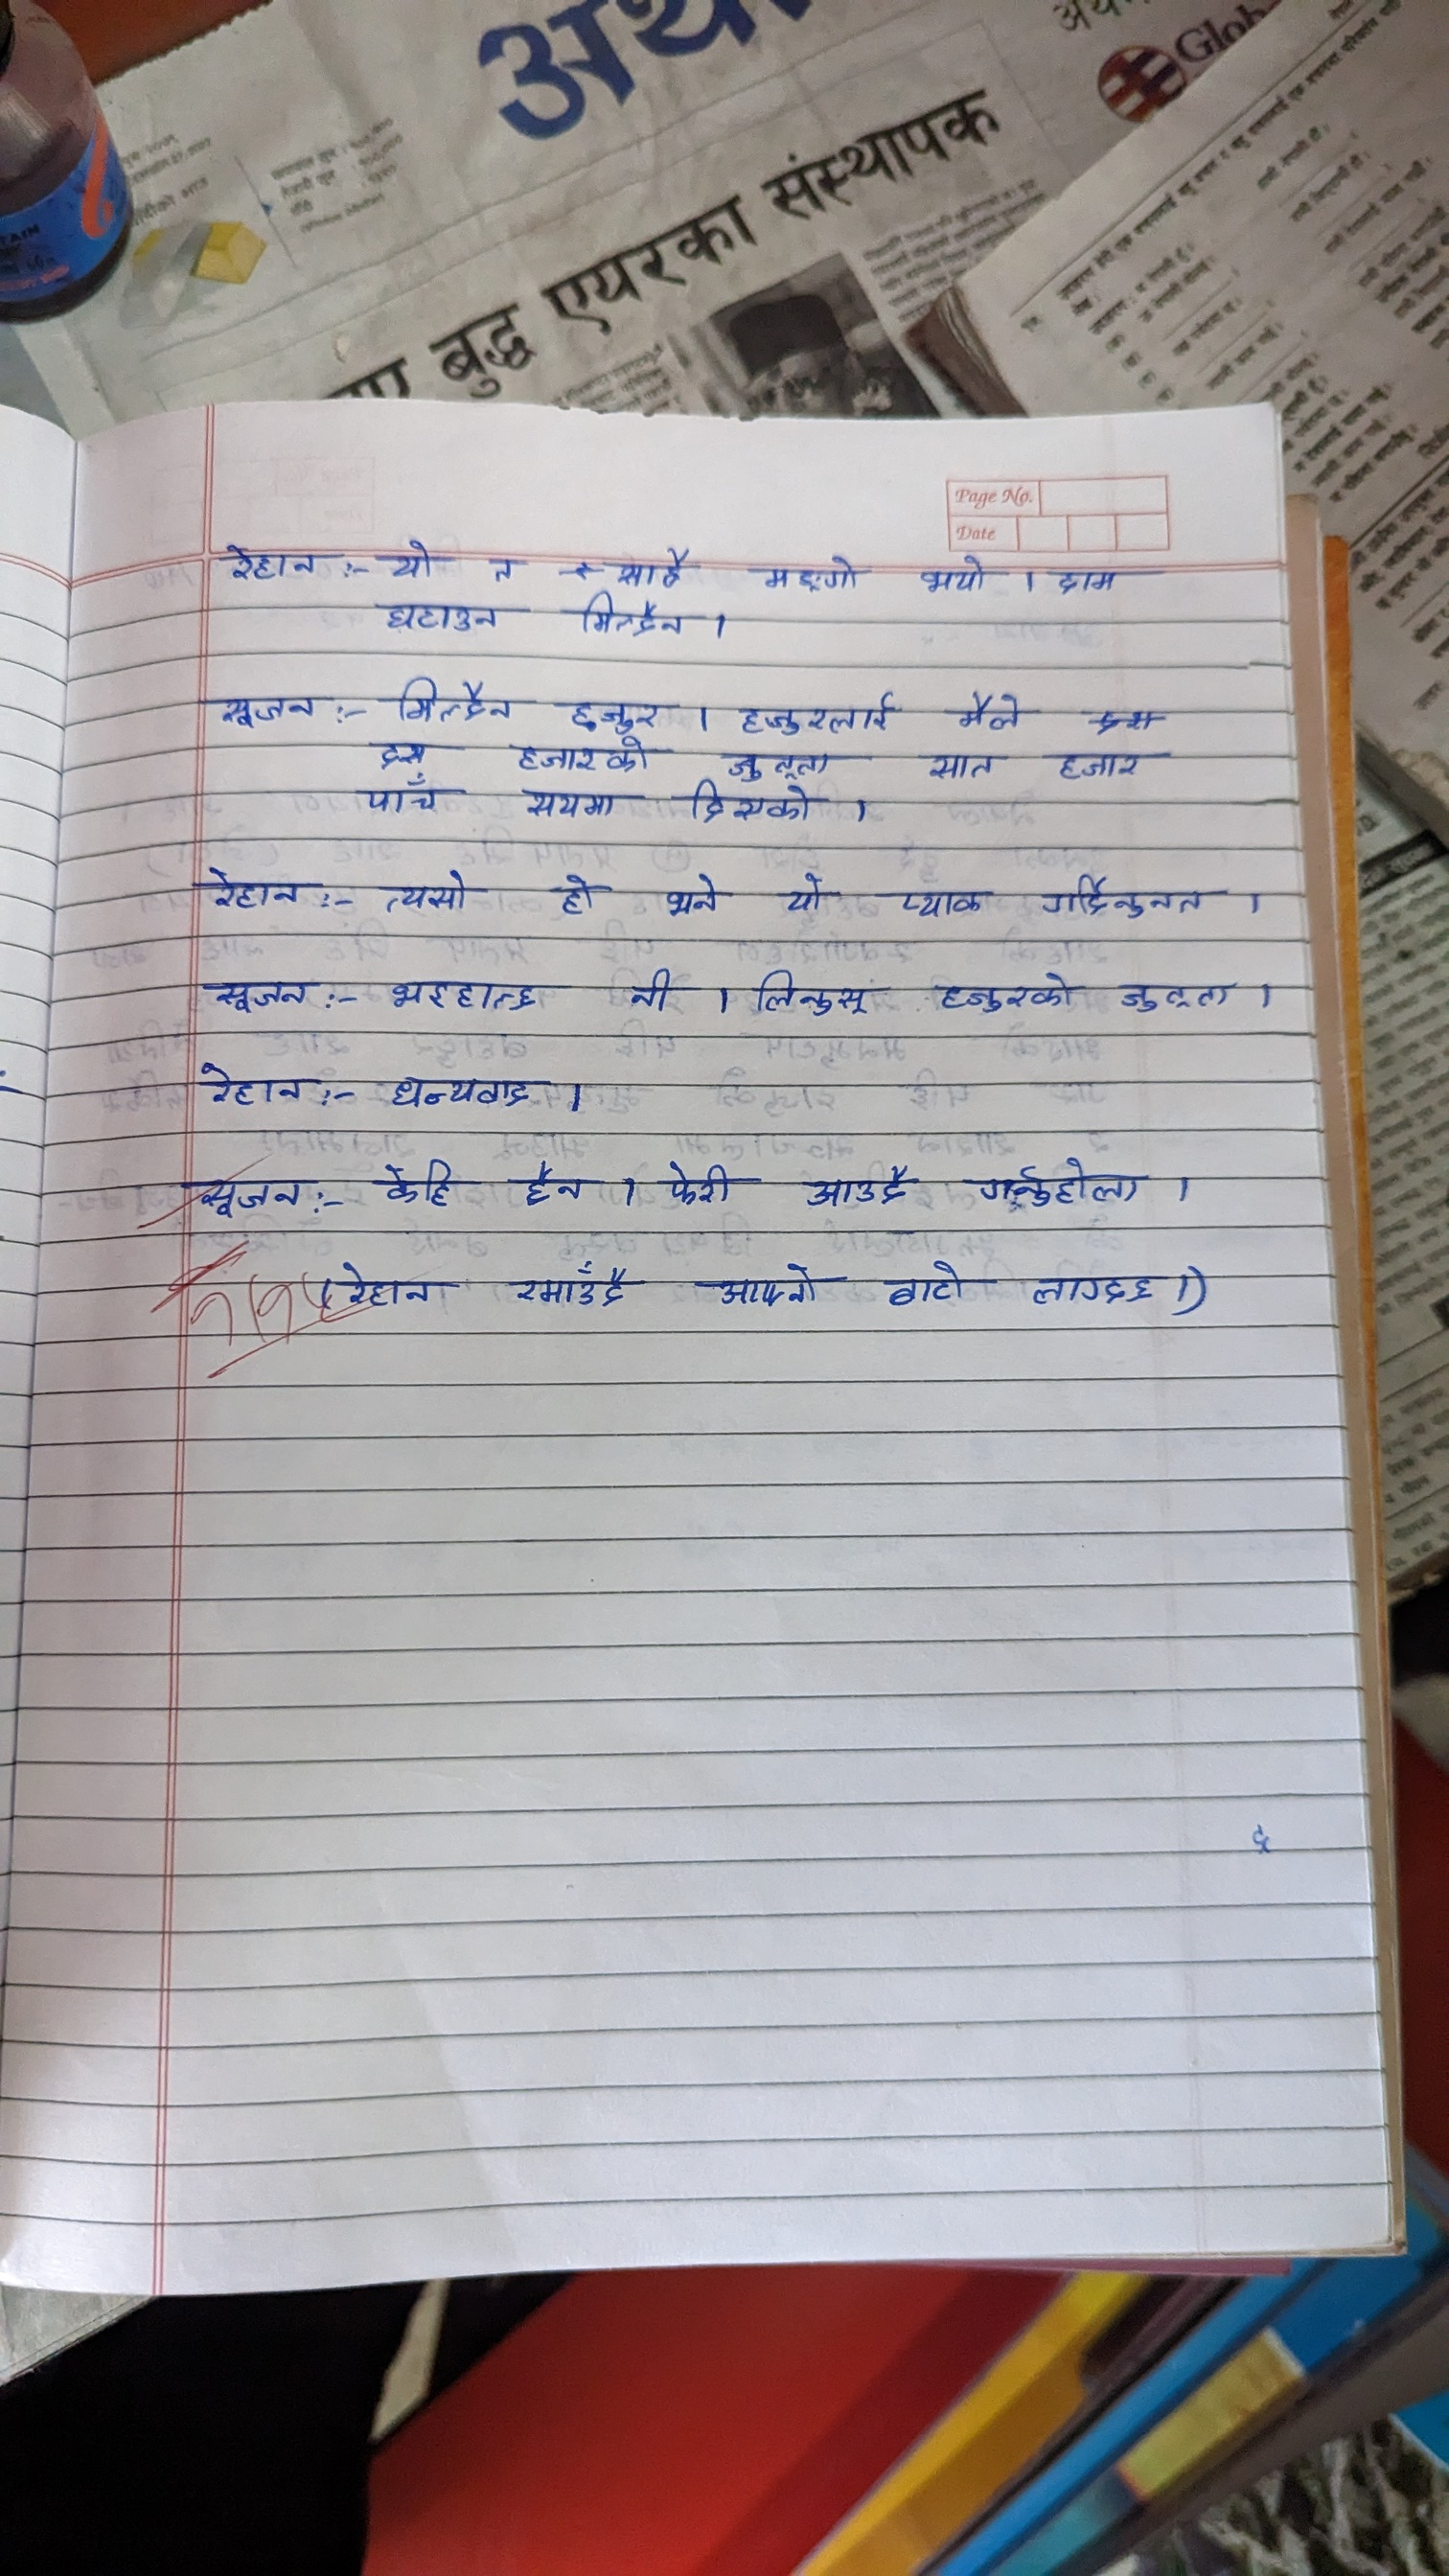text: (1023, 865, 1226, 924), (971, 1155, 1154, 1212), (1008, 1260, 1191, 1316), (373, 971, 556, 1028), (384, 1069, 566, 1123), (754, 964, 893, 1031), (936, 968, 1076, 1035), (1108, 964, 1247, 1031), (363, 862, 502, 929), (738, 686, 901, 740), (732, 547, 895, 600), (566, 591, 704, 649), (1051, 554, 1189, 612), (205, 540, 349, 589), (372, 591, 513, 640), (389, 674, 520, 727), (674, 784, 830, 828), (350, 1161, 471, 1212), (704, 1261, 824, 1313), (193, 1173, 315, 1223), (333, 1267, 455, 1316), (642, 1161, 764, 1210), (789, 1164, 911, 1214), (559, 685, 672, 738), (195, 1062, 315, 1111), (202, 971, 322, 1021), (196, 863, 317, 913), (499, 1157, 619, 1207), (504, 1260, 625, 1309), (869, 1258, 989, 1307), (878, 881, 1010, 925), (216, 685, 315, 732), (520, 784, 619, 832), (1047, 747, 1145, 794), (938, 688, 1037, 734), (511, 738, 646, 771), (717, 747, 849, 780), (540, 870, 623, 924), (609, 970, 694, 1021), (649, 870, 732, 922), (763, 872, 846, 924), (363, 777, 446, 828), (375, 536, 453, 587), (478, 538, 556, 589), (916, 550, 993, 602), (616, 538, 692, 589), (927, 752, 1003, 784), (366, 740, 442, 770)
